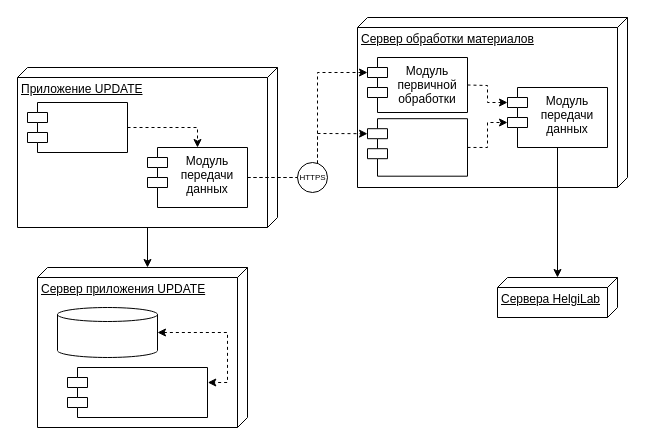
The diagram is 645 pixels wide and 445 high, and some of its shapes have lost their labels. The shapes that lost their labels are listed below. From the top down, each one's centre as x and y in pixels, then its label:
[77,127]: Мобильное приложение
[417,147]: Модуль соответствия материалов
[107,332]: БД
[137,392]: Модуль взаимодействия с БД
